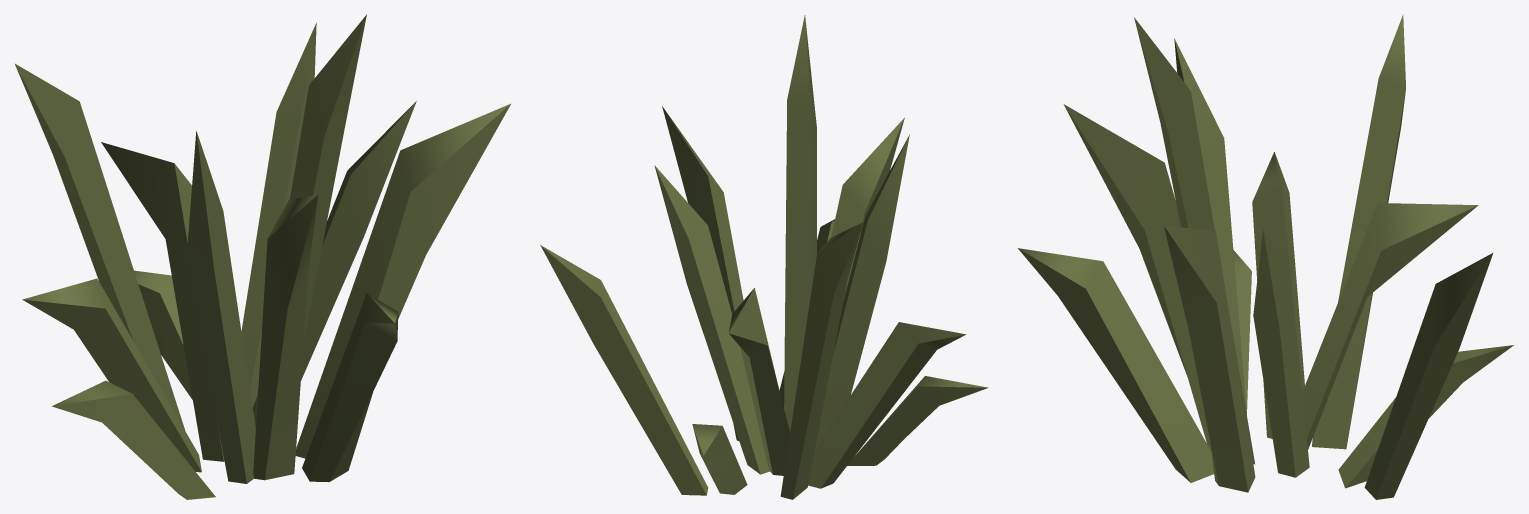
The model's file is reed.glb.
3 renders of one model, left to right at view 1: azimuth 30°, elevation 25°; view 2: azimuth 150°, elevation 25°; view 3: azimuth 270°, elevation 25°, orthographic. The views are drawn at different scales.
Visible parts, largest first — view 1: Mesh; view 2: Mesh; view 3: Mesh.
Part boxes in pixels (x1,y1,x2,y2): Mesh: (15, 14, 510, 499); Mesh: (540, 15, 988, 499); Mesh: (1018, 14, 1513, 499).
Size of the model in its own units: 4.59 by 5.02 by 4.78.
